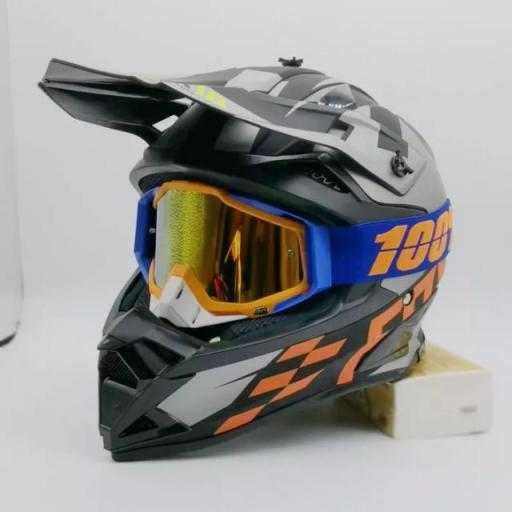Helmet: (20, 33, 450, 466)
